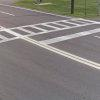Crosswalk: (2, 16, 89, 42)
